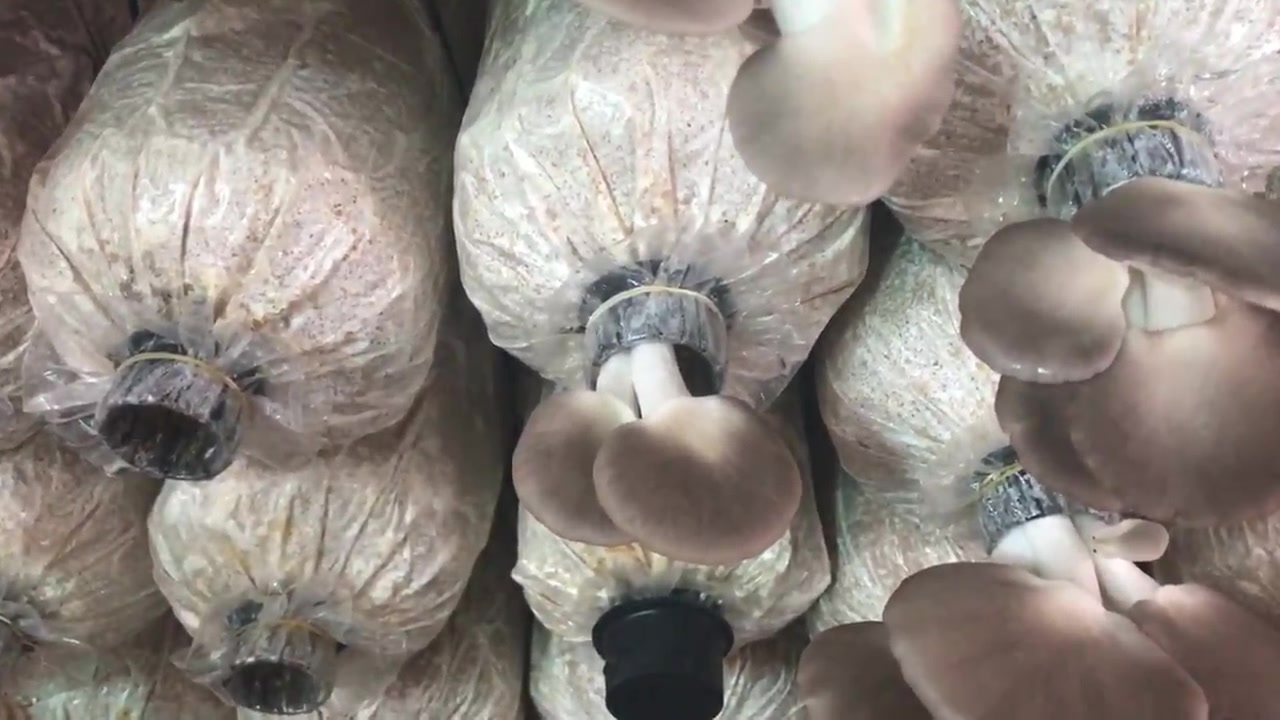nam: (959, 114, 1280, 521), (809, 462, 1280, 718), (510, 271, 800, 566), (726, 1, 966, 207)
